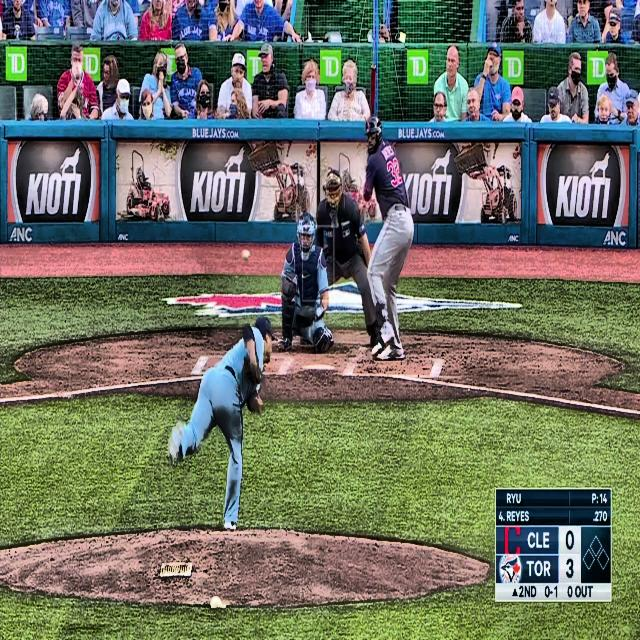baseball: (242, 248, 252, 262)
